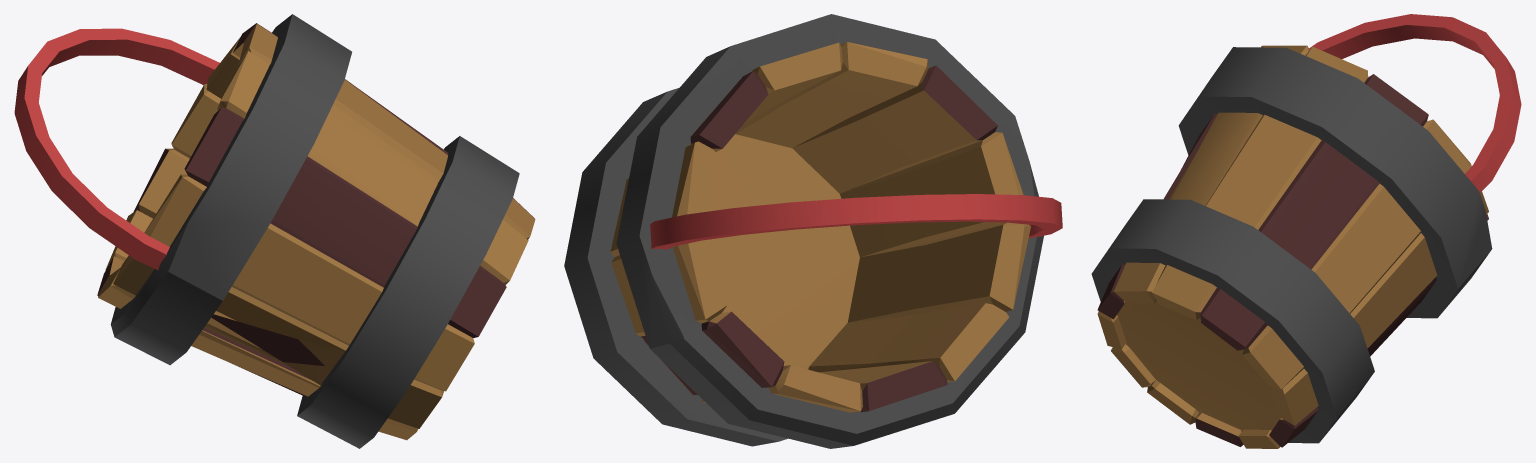
File: ea_prop_container_basket_03b_pre__4__lev1.glb
3 views of the same model, side by side, from view 1: azimuth 30°, elevation 25°; view 2: azimuth 150°, elevation 25°; view 3: azimuth 270°, elevation 25° (orthographic). The views are drawn at different scales.
Parts seen in each view (by area): view 1: ea_prop_container_basket_03b_pre__4__lev1; view 2: ea_prop_container_basket_03b_pre__4__lev1; view 3: ea_prop_container_basket_03b_pre__4__lev1.
Part boxes in pixels (<box>): ea_prop_container_basket_03b_pre__4__lev1: <box>14,14,535,448</box>; ea_prop_container_basket_03b_pre__4__lev1: <box>564,14,1062,448</box>; ea_prop_container_basket_03b_pre__4__lev1: <box>1091,14,1521,448</box>.
Bounding box in the file's own units: 0.7137 × 0.6234 × 0.6723.
Materials: 1 (1 with a texture image).
